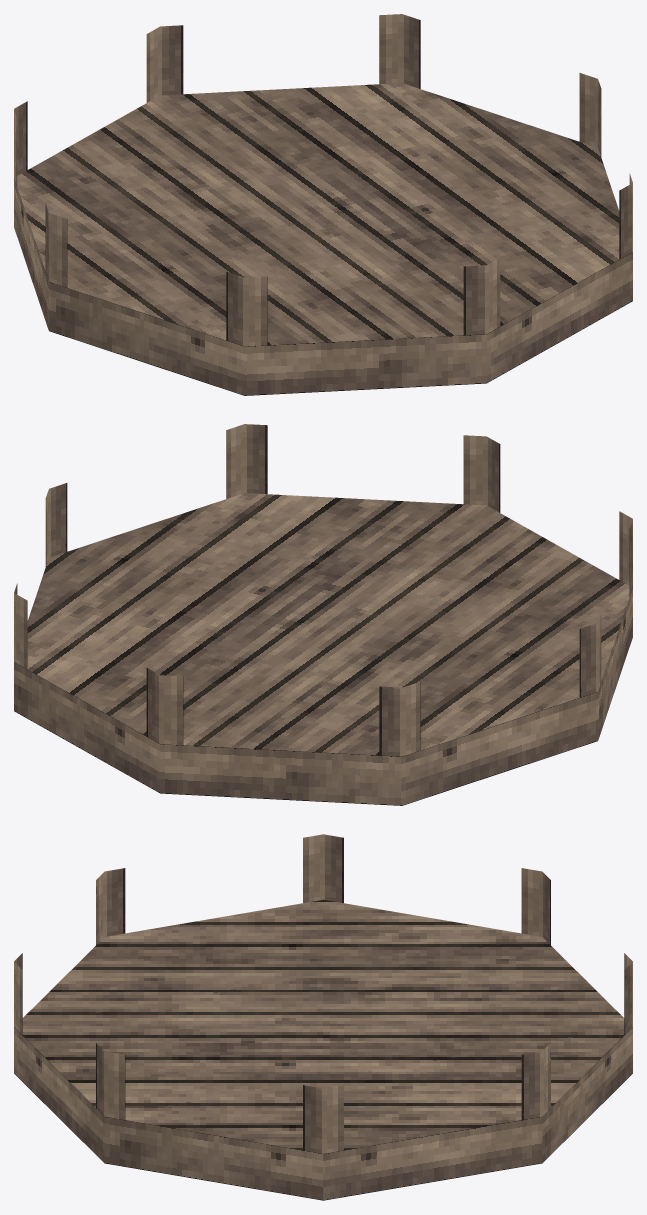
The model's file is overhang-round-railing.002_lev3.glb.
3 views of the same model, one above another, from view 1: azimuth 30°, elevation 25°; view 2: azimuth 150°, elevation 25°; view 3: azimuth 270°, elevation 25° (orthographic). The views are drawn at different scales.
Parts seen in each view (by area): view 1: overhang-round-railing.002_lev3; view 2: overhang-round-railing.002_lev3; view 3: overhang-round-railing.002_lev3.
Boxes of the visible parts, <box> form: overhang-round-railing.002_lev3: <box>14,14,632,395</box>; overhang-round-railing.002_lev3: <box>14,424,632,805</box>; overhang-round-railing.002_lev3: <box>14,834,632,1200</box>.
Size of the model in its own units: 13.43 by 2.76 by 13.82.
Materials: 1 (1 with a texture image).
